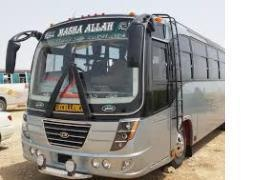bus: (17, 8, 229, 176)
